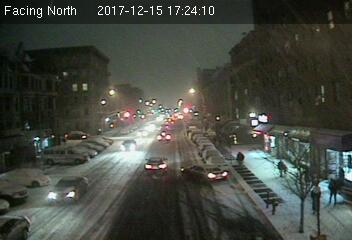car: (179, 162, 231, 185), (46, 175, 87, 203), (143, 156, 169, 173), (119, 140, 138, 152), (156, 132, 172, 142)
pedestrian: (277, 160, 286, 177), (237, 152, 244, 167)
